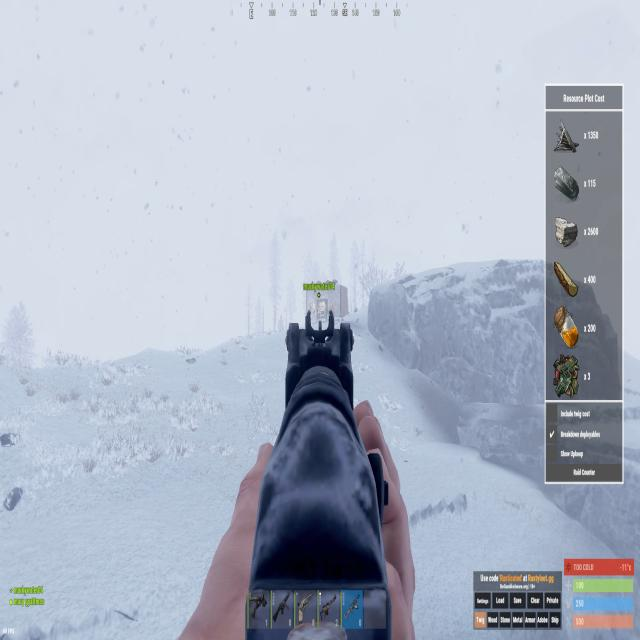Player: (318, 303, 321, 320)
